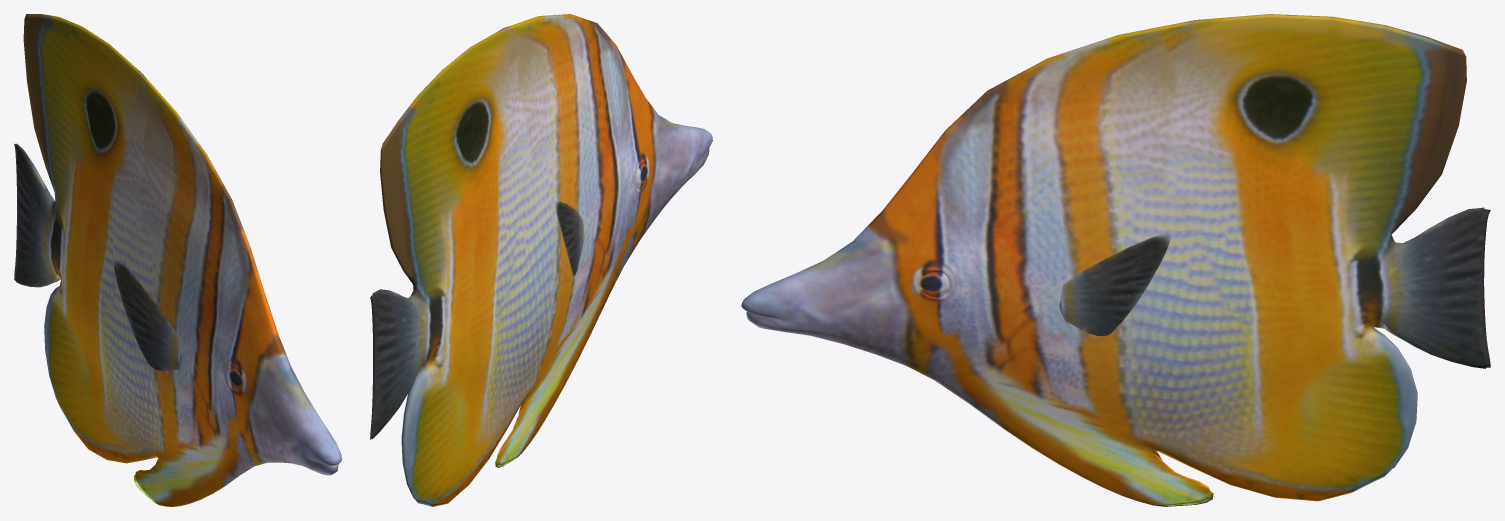
File: fish6.fbx
3 views of the same model, side by side, from view 1: azimuth 30°, elevation 25°; view 2: azimuth 150°, elevation 25°; view 3: azimuth 270°, elevation 25° (orthographic). The views are drawn at different scales.
Visible parts, largest first — view 1: fish06_needlenose_Mesh; view 2: fish06_needlenose_Mesh; view 3: fish06_needlenose_Mesh.
Part boxes in pixels (box(x1,y1,x2,y2)): fish06_needlenose_Mesh: box(14, 14, 341, 506); fish06_needlenose_Mesh: box(370, 14, 712, 506); fish06_needlenose_Mesh: box(741, 14, 1490, 506).
Size of the model in its own units: 5.53 by 28.47 by 39.24.
